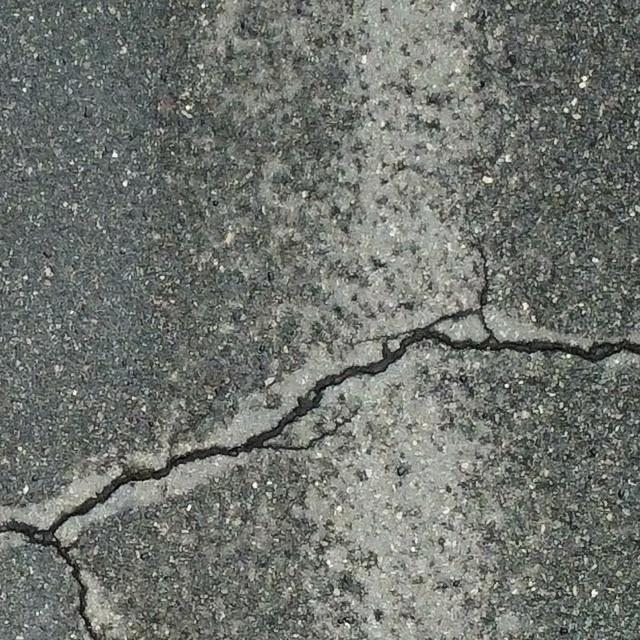LongitudinalCrack: (55, 538, 100, 639)
TransverseCrack: (1, 307, 640, 544)
